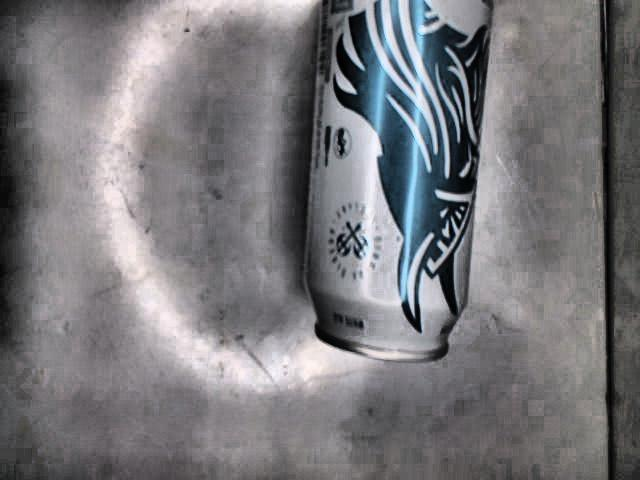Bottles: (297, 0, 499, 363)
